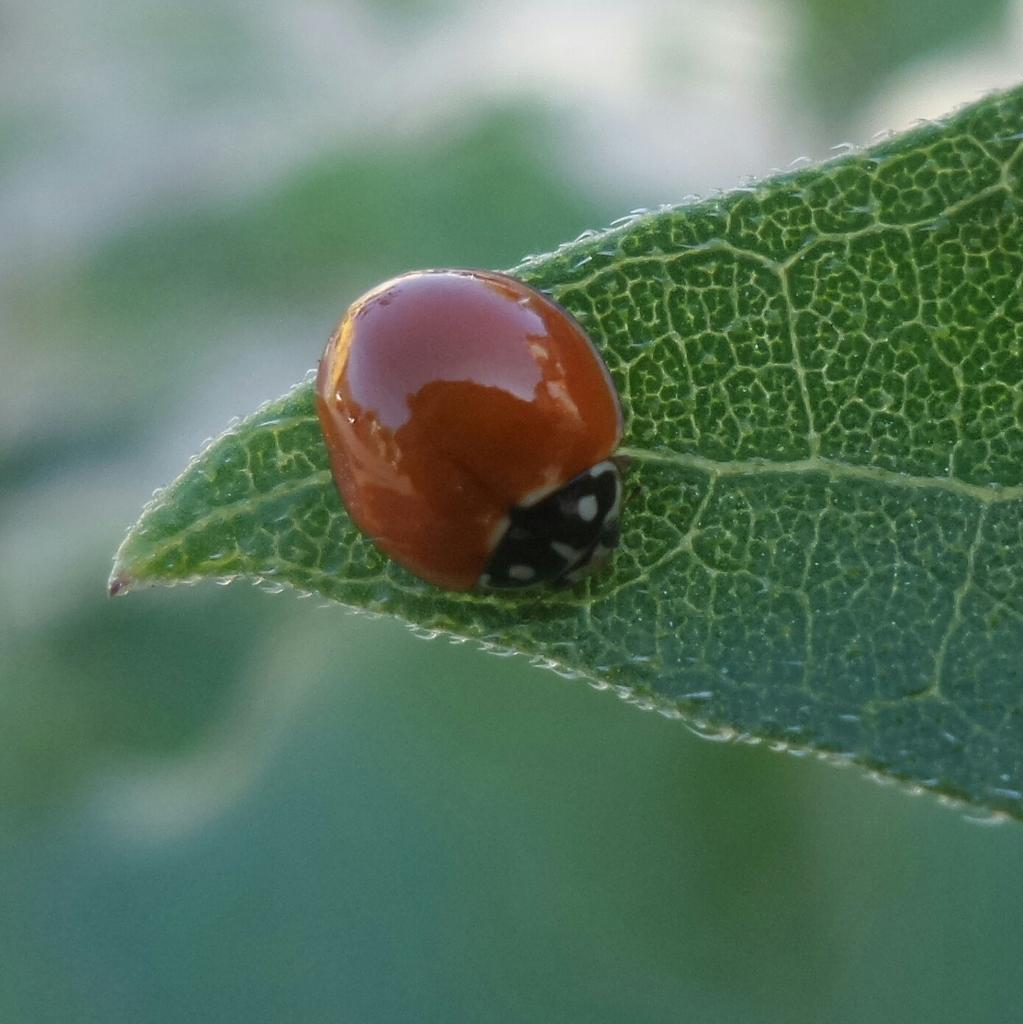ladybug: (304, 259, 641, 606)
